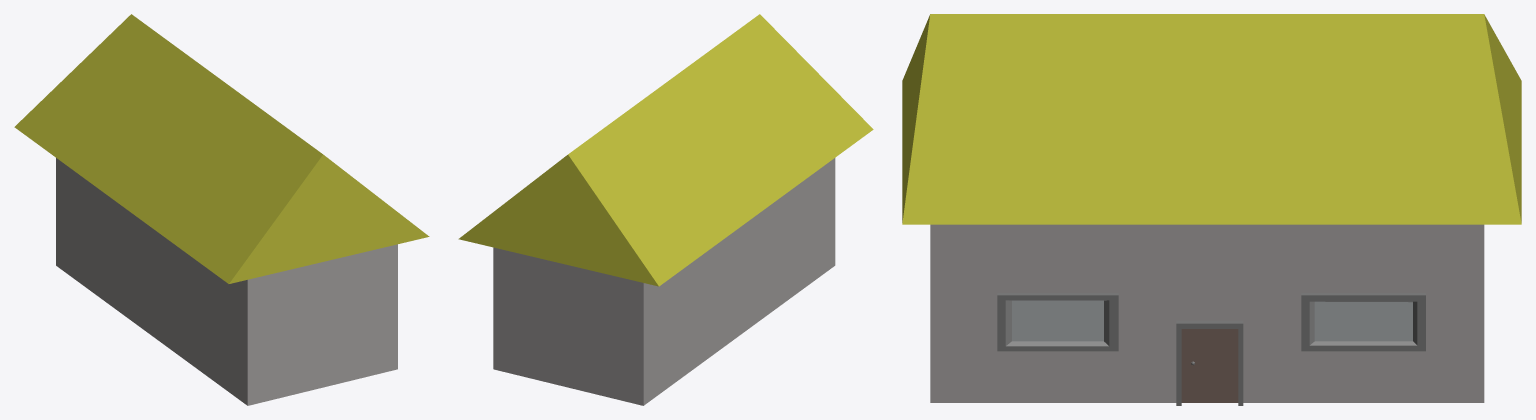
File: Small7.fbx
3 renders of one model, left to right at view 1: azimuth 30°, elevation 25°; view 2: azimuth 150°, elevation 25°; view 3: azimuth 270°, elevation 25°, orthographic. The views are drawn at different scales.
Visible parts, largest first — view 1: pCube2; view 2: pCube2; view 3: pCube2.
Part boxes in pixels (bbox=[...]): pCube2: bbox=[14, 14, 429, 405]; pCube2: bbox=[458, 14, 873, 405]; pCube2: bbox=[902, 14, 1521, 405].
Bounding box in the file's own units: 7.99 × 8.86 × 14.79.
